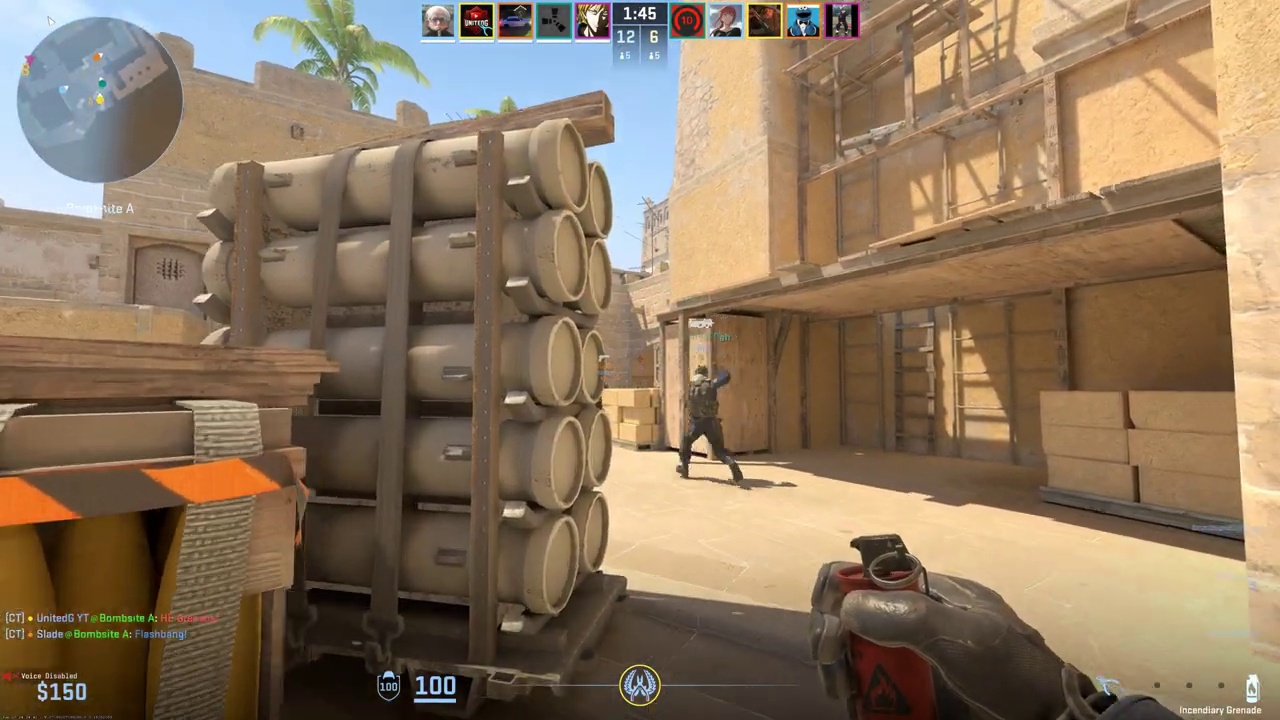CT: (675, 366, 741, 483)
